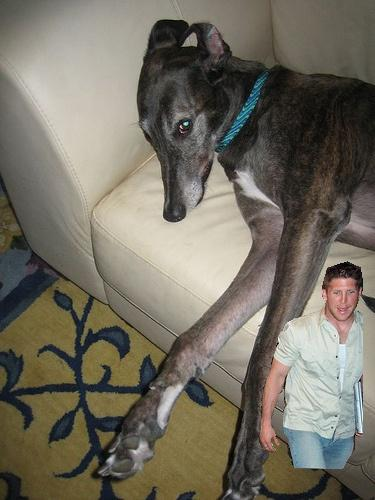tampered: (260, 262, 363, 469)
